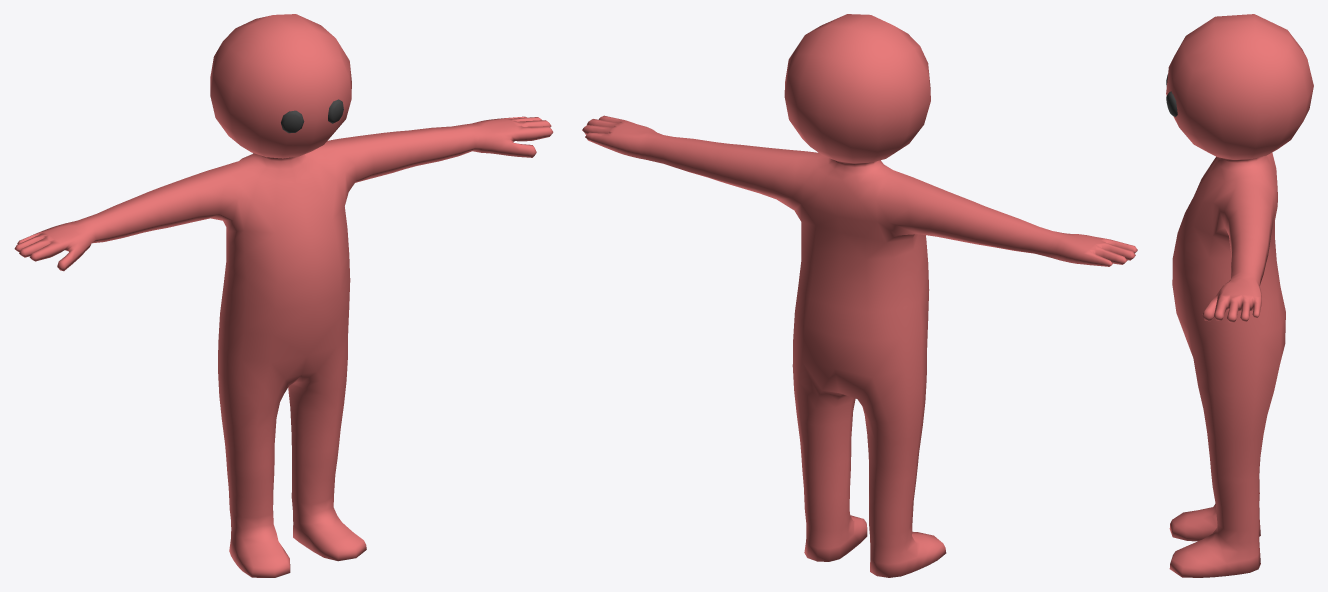
The model's file is Body_Red_002.glb.
3 renders of one model, left to right at view 1: azimuth 30°, elevation 25°; view 2: azimuth 150°, elevation 25°; view 3: azimuth 270°, elevation 25°, orthographic. The views are drawn at different scales.
Visible parts, largest first — view 1: Body_Red_002; view 2: Body_Red_002; view 3: Body_Red_002.
Part boxes in pixels (<box>): Body_Red_002: <box>14,14,553,577</box>; Body_Red_002: <box>582,14,1137,577</box>; Body_Red_002: <box>1166,14,1313,577</box>.
Bounding box in the file's own units: 1.82 × 1.71 × 0.4335.
1 material, 1 textured.
